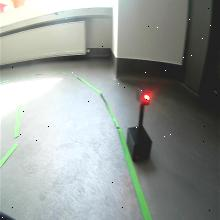red: (135, 84, 152, 106)
